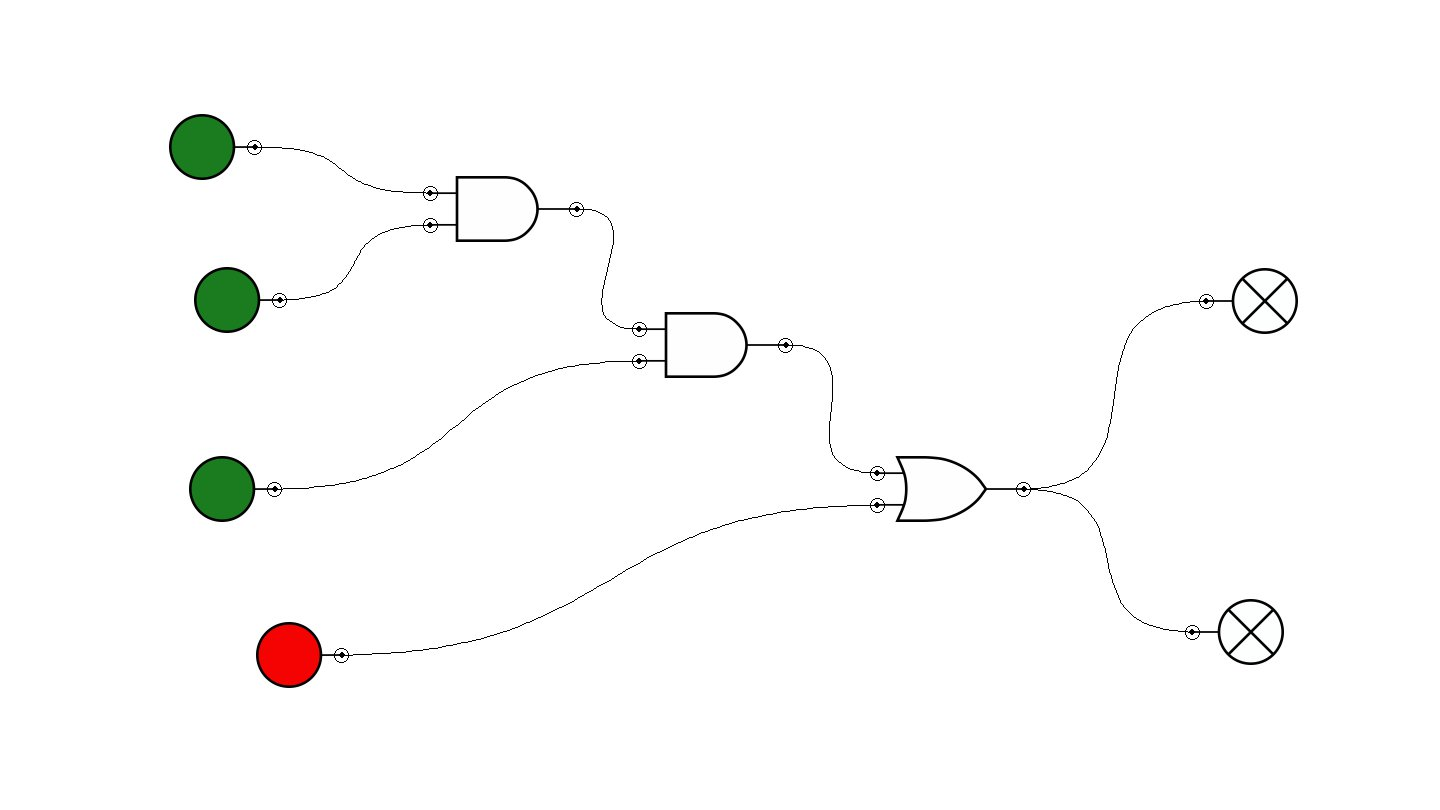and: (423, 176, 584, 242), (632, 312, 793, 378)
bulb: (1185, 599, 1284, 665), (1199, 268, 1298, 334)
or: (870, 456, 1031, 522)
switch_False: (256, 622, 349, 688)
switch_True: (169, 114, 262, 180), (194, 267, 287, 333), (189, 456, 282, 522)
